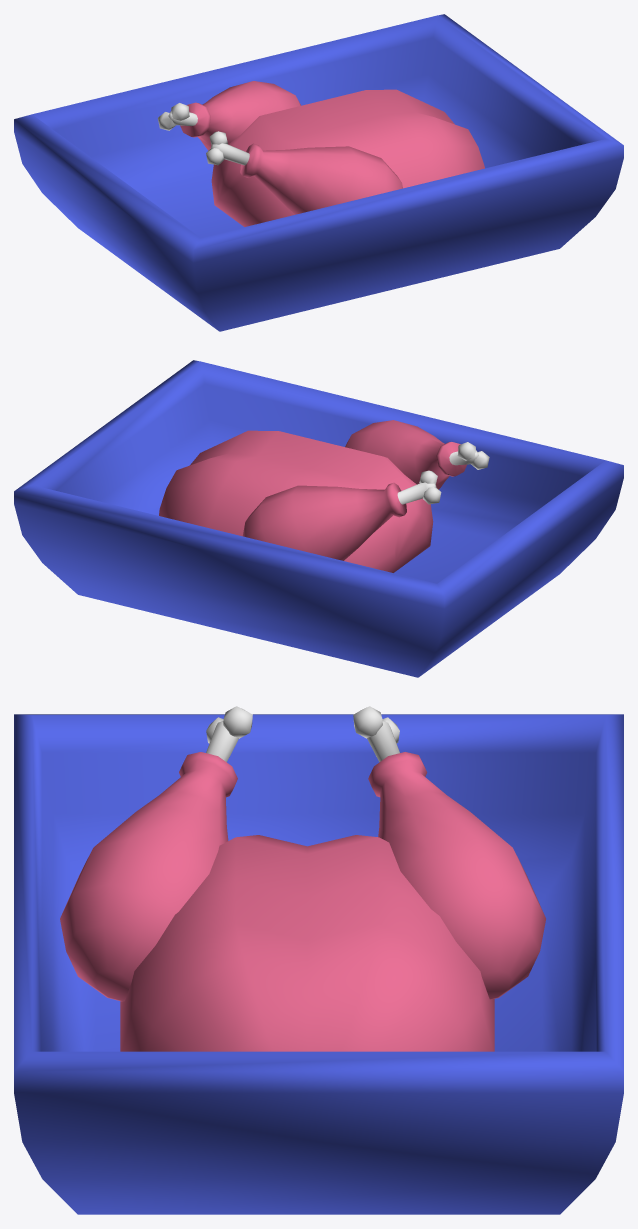
File: pollo_intero.fbx
3 views of the same model, one above another, from view 1: azimuth 30°, elevation 25°; view 2: azimuth 150°, elevation 25°; view 3: azimuth 270°, elevation 25° (orthographic). The views are drawn at different scales.
Parts seen in each view (by area): view 1: pollo_intero; view 2: pollo_intero; view 3: pollo_intero.
Part boxes in pixels (x1,y1,x2,y2): pollo_intero: (14,14,623,331); pollo_intero: (14,360,623,677); pollo_intero: (14,706,623,1214).
Size of the model in its own units: 1232 by 424 by 889.
